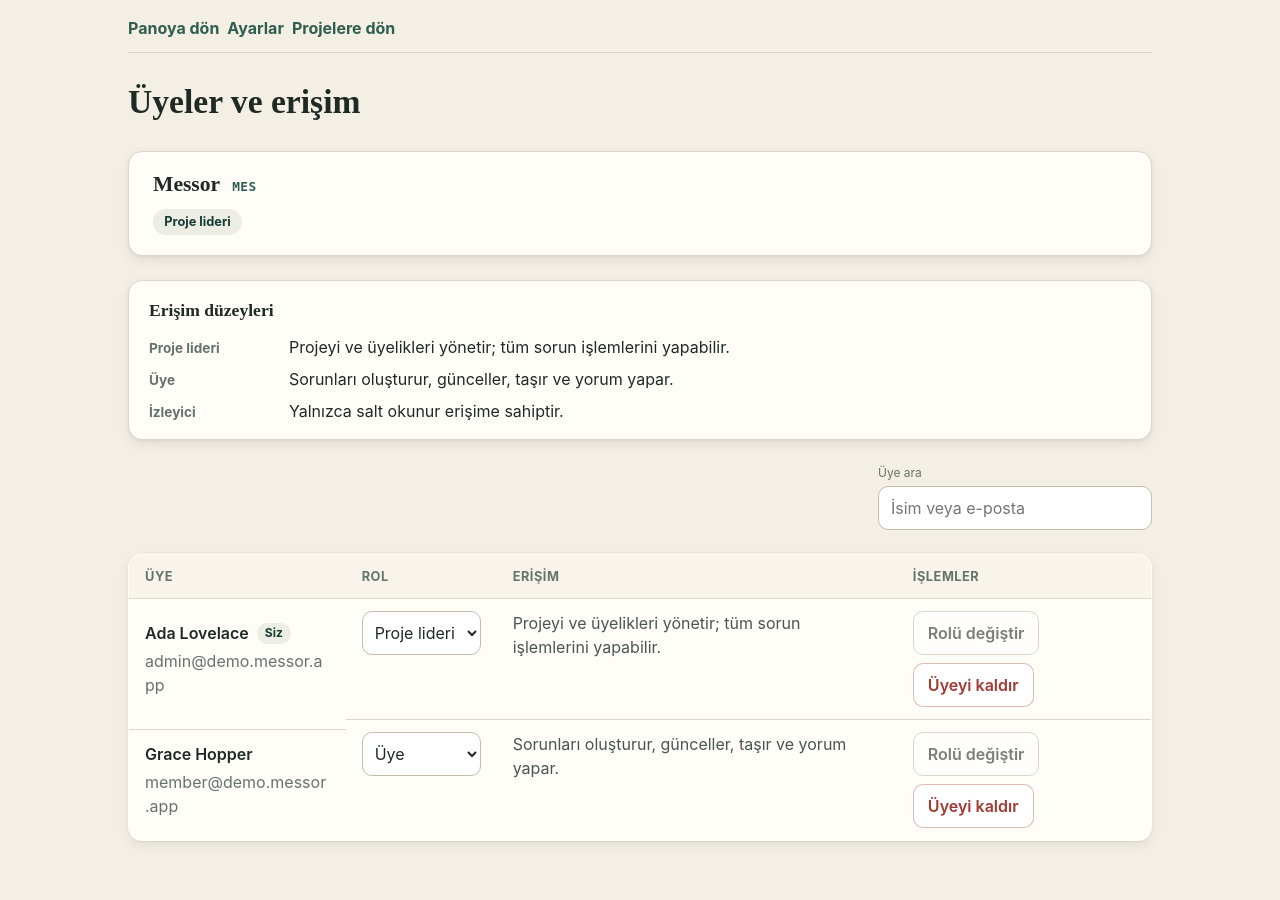
Test: MembersPage › member table and access › shows a no-matches message when the filter matches nothing
The width and height of the screenshot is (1280, 900).
Expected: the table named "Proje üyeleri" is shown, [128, 554, 1152, 841]
Type "no-such-user" into the search field with placeholder "İsim veya e-posta" at (1015, 508), box [878, 486, 1152, 530]
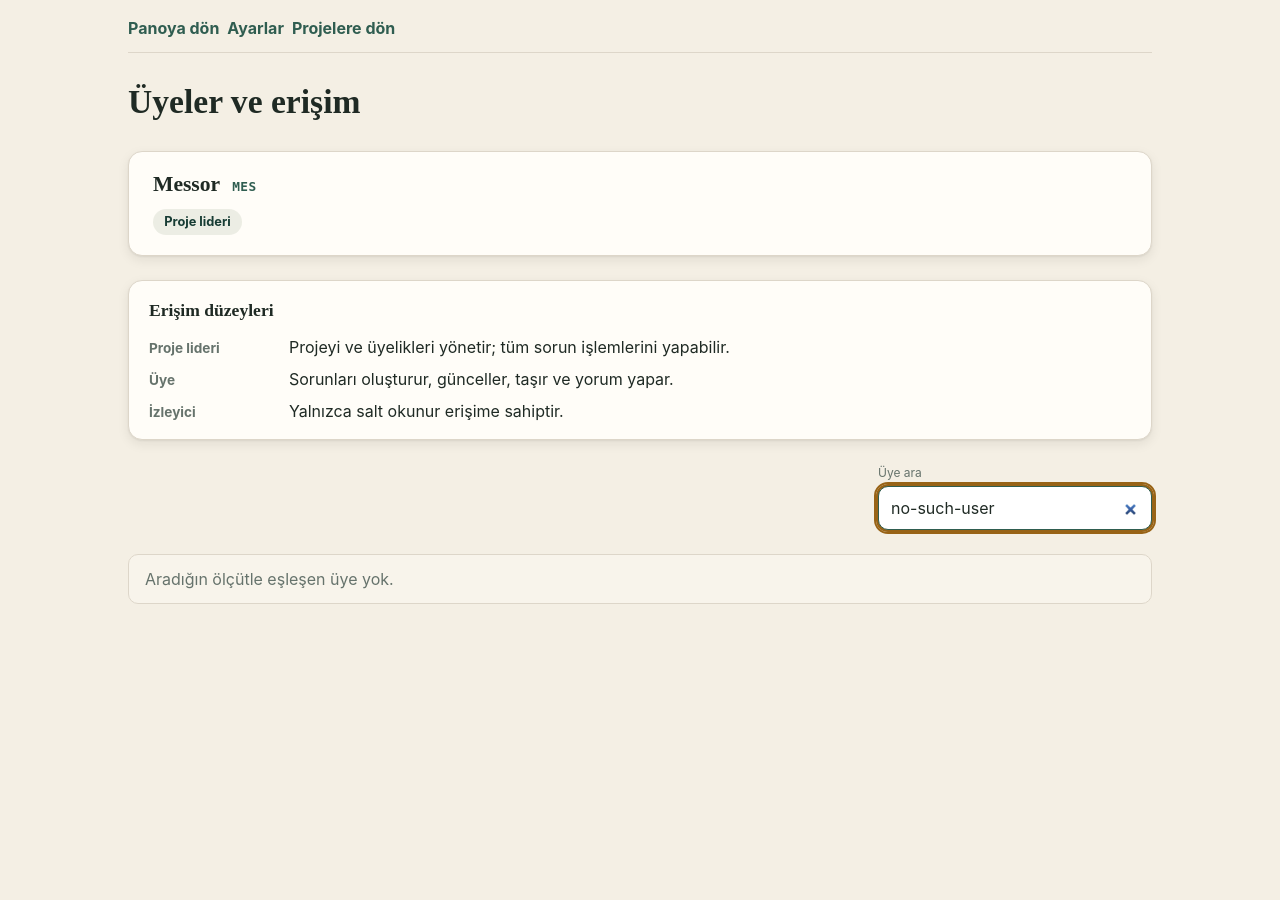
Now the text "Aradığın ölçütle eşleşen üye yok." is shown, box [128, 554, 1152, 604]
